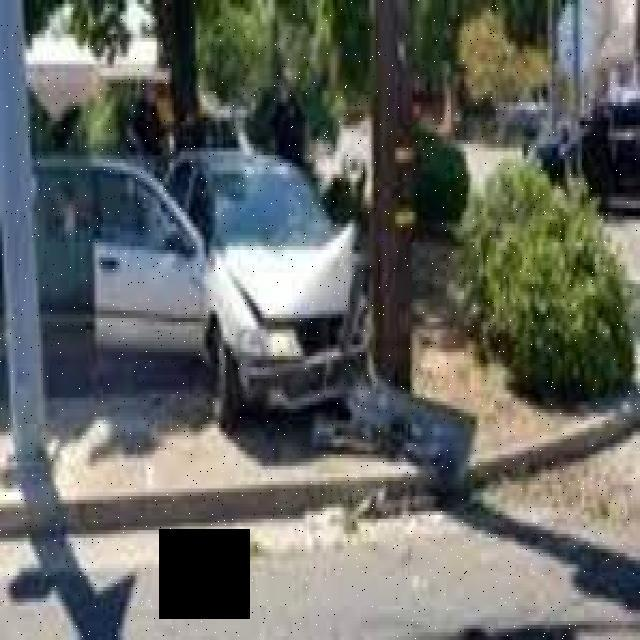single accident: (63, 52, 432, 452)
